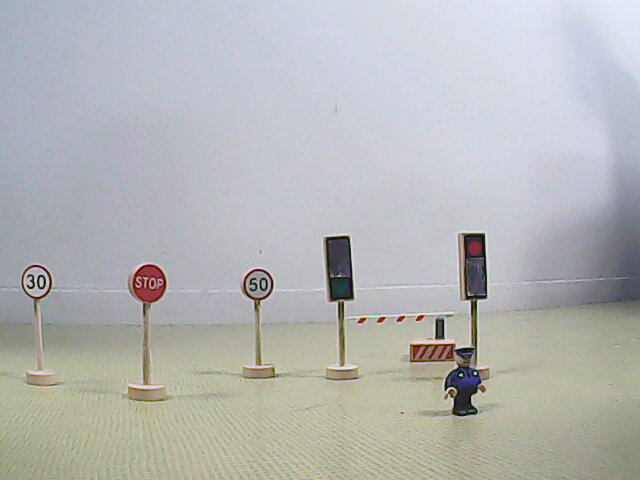barrier: (346, 312, 456, 363)
green_traffic_sign: (323, 236, 356, 302)
person: (444, 346, 488, 419)
red_traffic_sign: (458, 233, 488, 301)
sign_30: (20, 264, 52, 298)
sign_50: (241, 267, 274, 302)
stop_sign: (128, 263, 169, 305)
